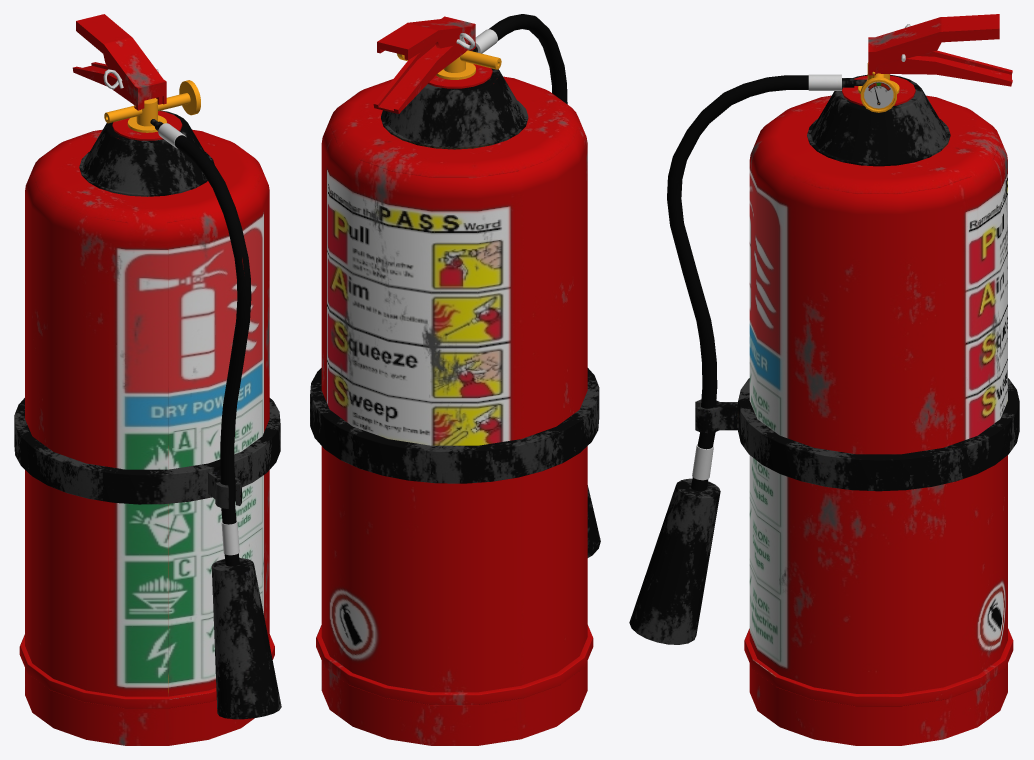
Rendered from fire_extinguisher_medium_size.glb.
3 renders of one model, left to right at view 1: azimuth 30°, elevation 25°; view 2: azimuth 150°, elevation 25°; view 3: azimuth 270°, elevation 25°, orthographic. The views are drawn at different scales.
Parts seen in each view (by area): view 1: Medium - GameReady; view 2: Medium - GameReady; view 3: Medium - GameReady.
Boxes of the visible parts, bbox=[...] form: Medium - GameReady: bbox=[14, 14, 281, 745]; Medium - GameReady: bbox=[310, 14, 600, 745]; Medium - GameReady: bbox=[629, 14, 1019, 745].
Size of the model in its own units: 0.2338 by 0.6145 by 0.324.
Materials: 1 (1 with a texture image).
